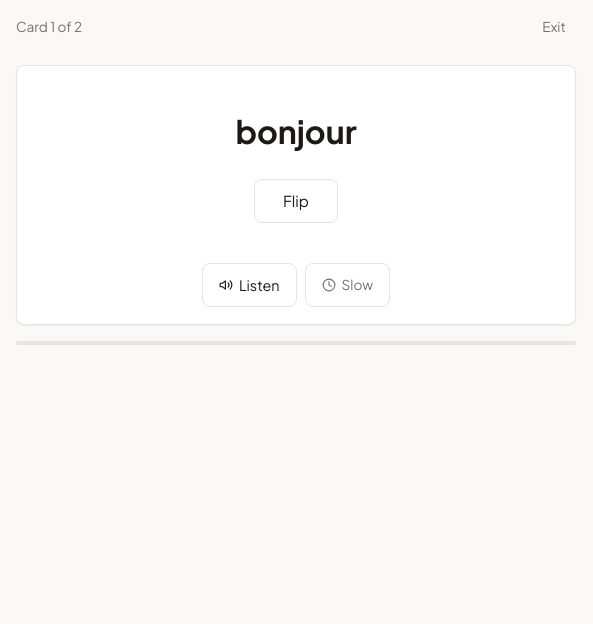
Test: FlashcardPractice — rating failures › surfaces the server message and keeps the learner on the card
This screenshot has width=593, height=624.
Check: the text "bonjour" is shown, box [235,107,357,155]
Click the button with aria-label "Flip card" at (296, 201), box [254,179,338,223]
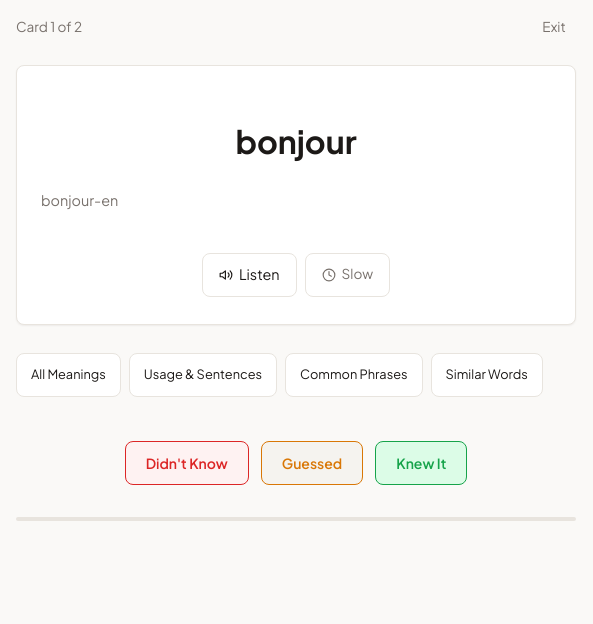
Click the button "Knew It" at (421, 463), box [375,441,467,485]
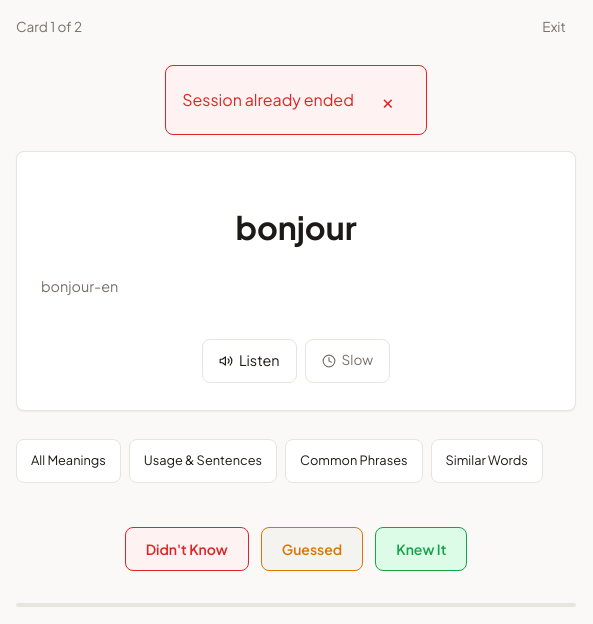
Check: the text "Card 1 of 2" is shown, box [16,17,82,37]
Check: the text "Session already ended" is shown, box [182,88,354,112]
